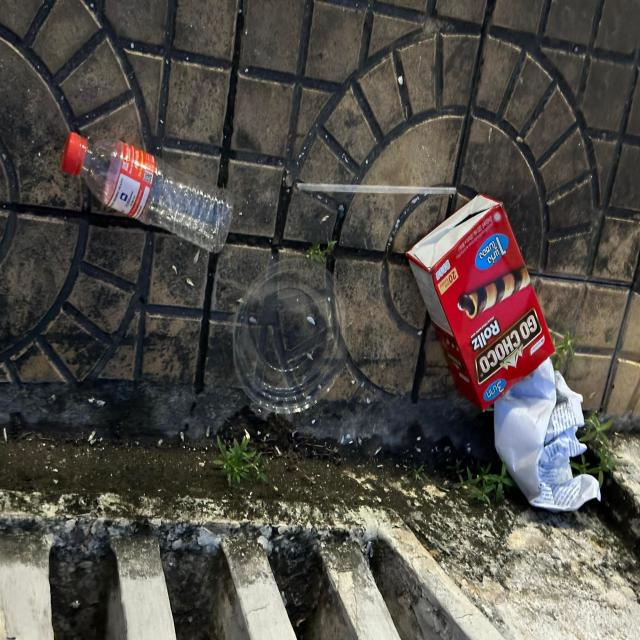bottle: (61, 133, 235, 252)
cardboard box: (407, 194, 554, 414)
drinking straw: (297, 182, 456, 194)
lid: (232, 254, 353, 412)
paper: (493, 358, 602, 512)
